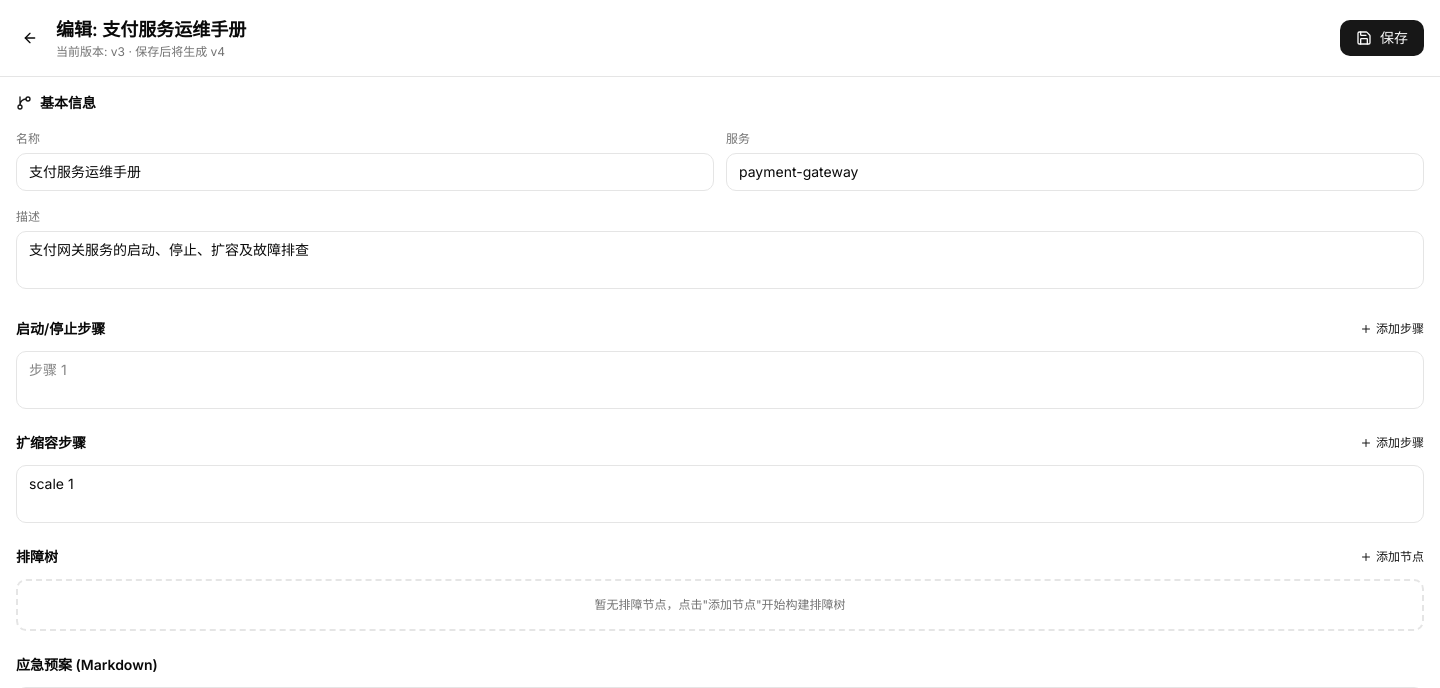
Test case: RunbookEditor › adds a new scale step
// startStop also has "添加步骤" because empty → [""], click second for scale
Click the button "添加步骤" in the row of "扩缩容步骤": x=1392, y=443 [1360,435,1424,451]
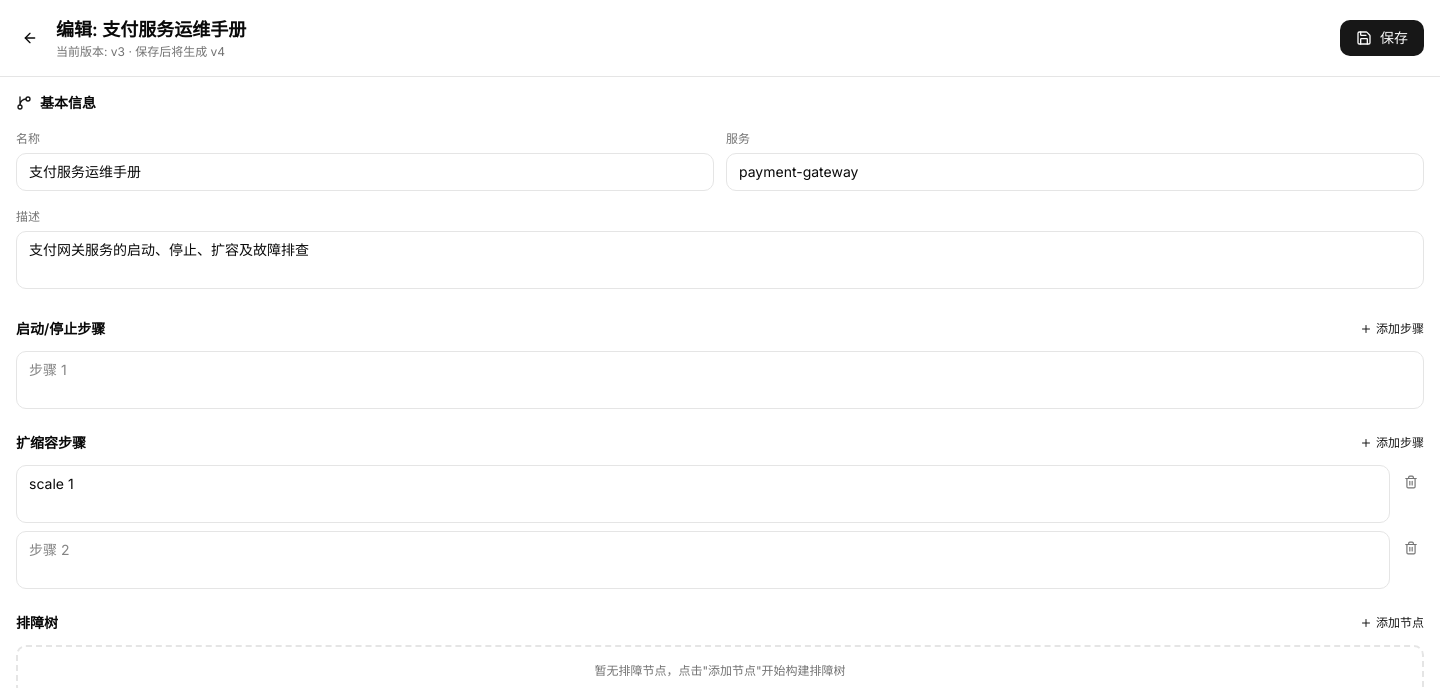
Expected: the number of text boxes with placeholder "步骤 1" is 3, [16,351,1424,409]; [16,465,1390,523]; [16,531,1390,589]
